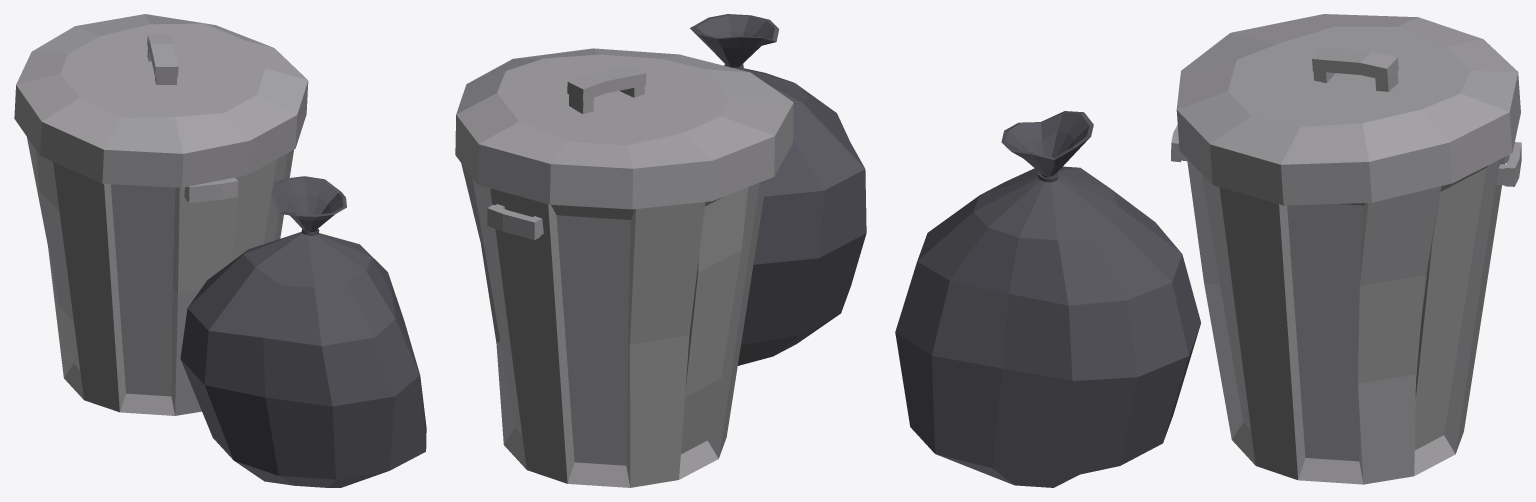
File: Trashcan.fbx
The picture shows the model from 3 angles, left to right: view 1: azimuth 30°, elevation 25°; view 2: azimuth 150°, elevation 25°; view 3: azimuth 270°, elevation 25°; orthographic projection. The views are drawn at different scales.
Parts seen in each view (by area): view 1: Cylinder.1252; view 2: Cylinder.1252; view 3: Cylinder.1252.
Part boxes in pixels (x1,y1,x2,y2): Cylinder.1252: [14, 14, 426, 487]; Cylinder.1252: [455, 14, 866, 487]; Cylinder.1252: [895, 14, 1521, 487].
Size of the model in its own units: 152 by 185 by 270.
1 material, 1 textured.
